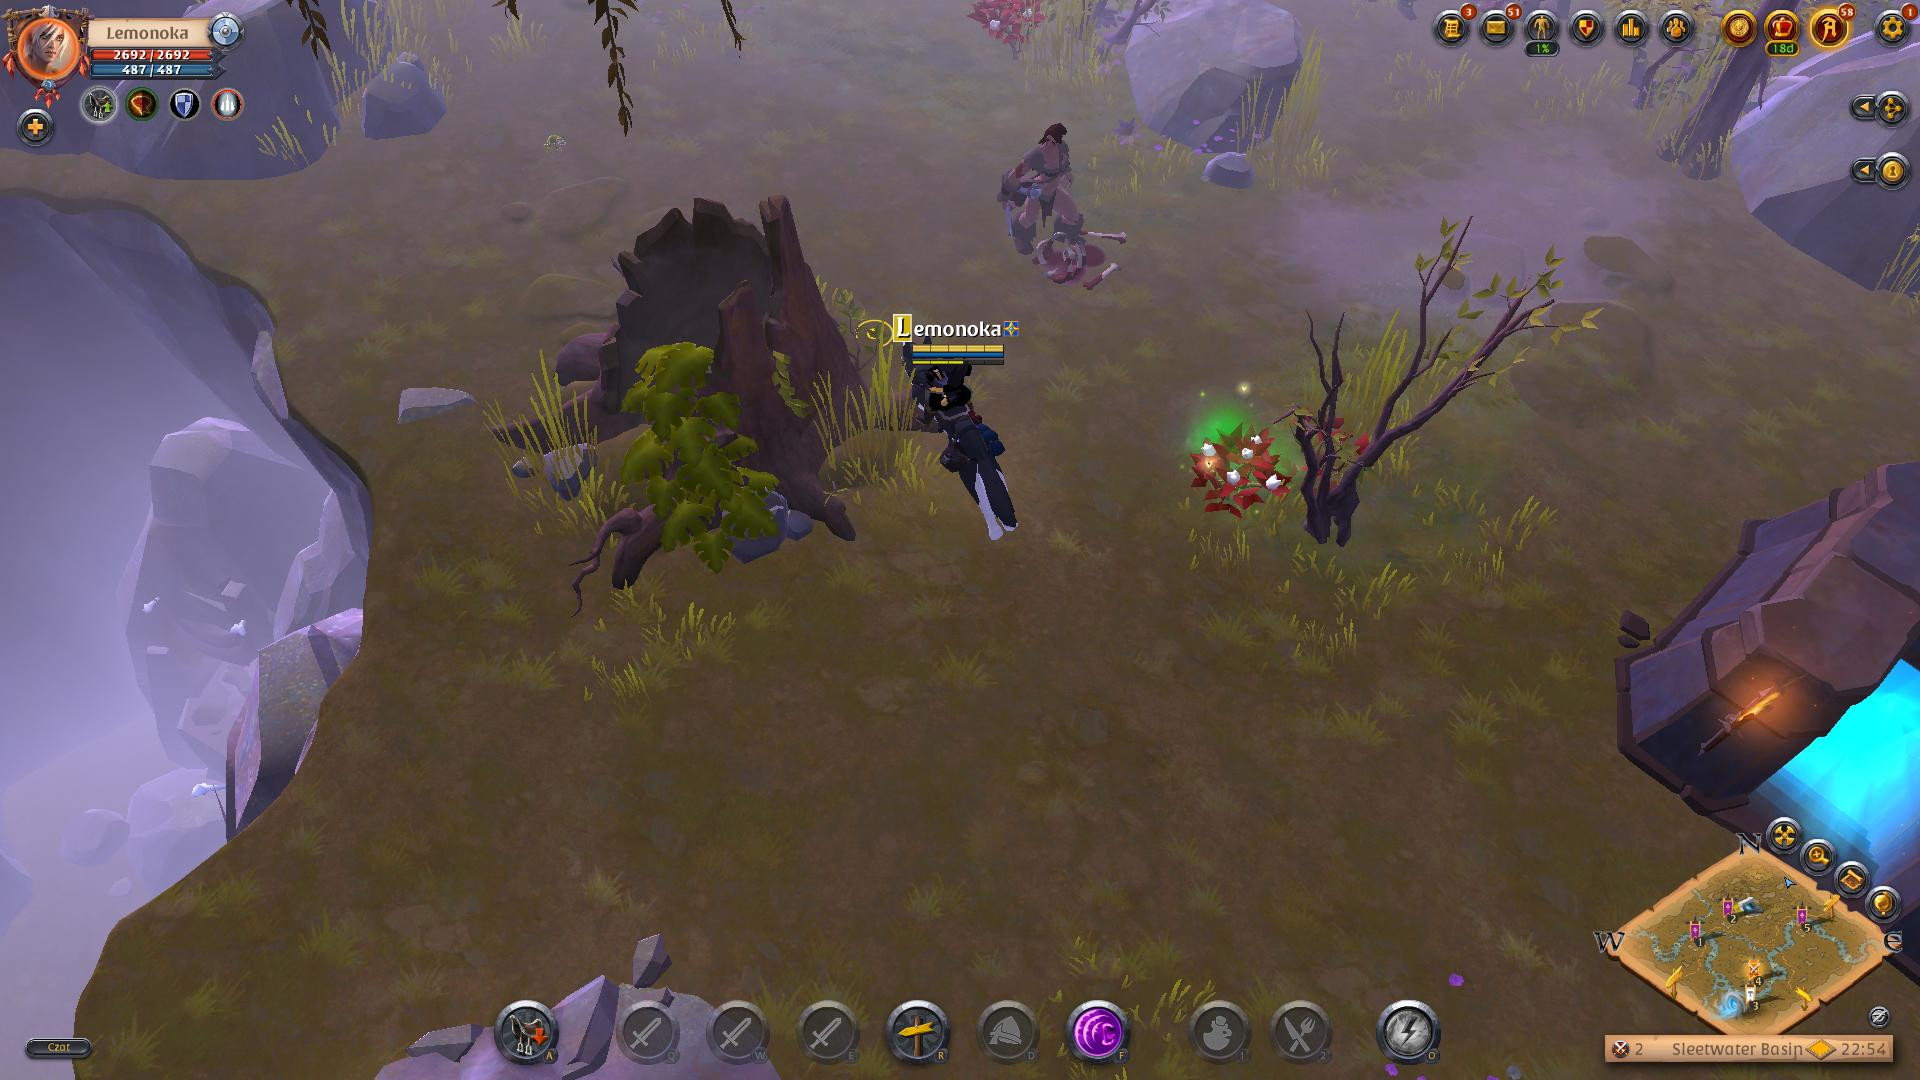fiber tier 5: (1188, 418, 1295, 524)
